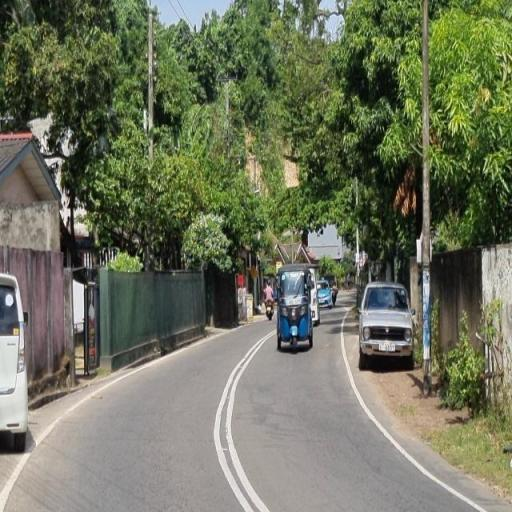double_white_line: (340, 322, 490, 510), (213, 328, 268, 511)
